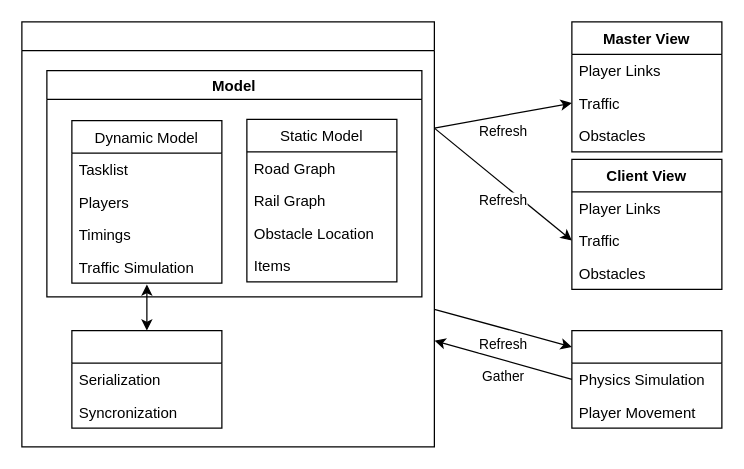
This 744x469 diagram has some shape labels left out. The box of each missing label's shape, as (x1, y1, x2, y2) in pixels:
Controller: (21, 21, 434, 447)
Network: (71, 329, 222, 428)
Unity: (571, 329, 722, 428)
